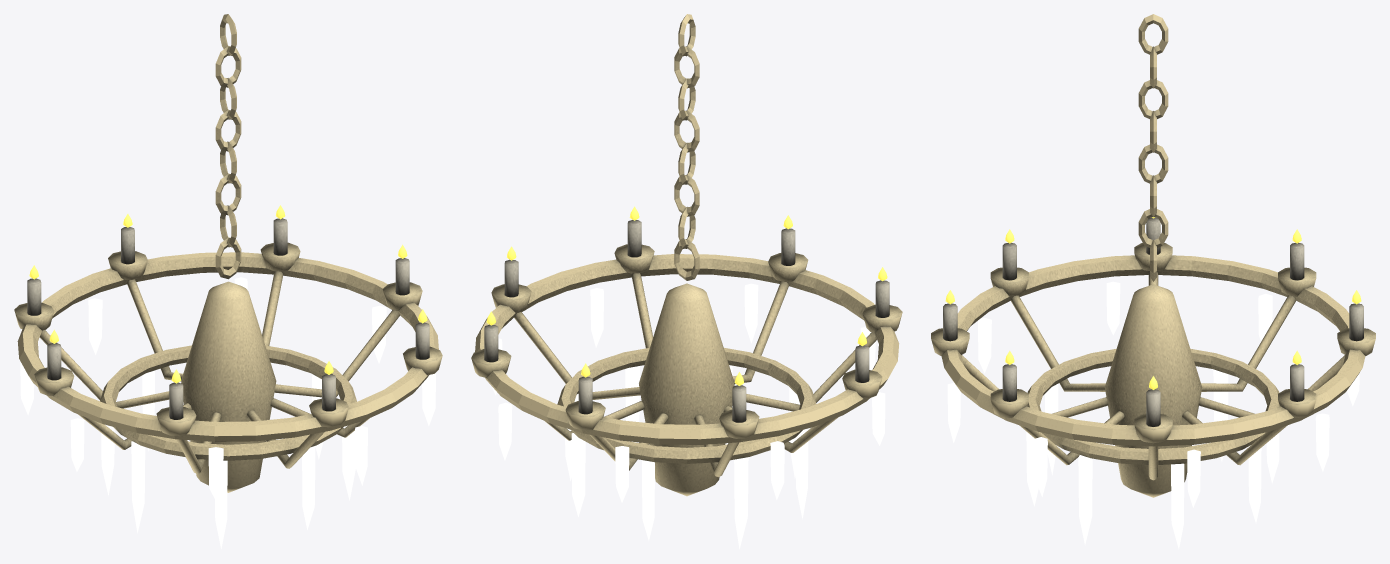
Rendered from deco_lustre_cristal.glb.
The picture shows the model from 3 angles, left to right: view 1: azimuth 30°, elevation 25°; view 2: azimuth 150°, elevation 25°; view 3: azimuth 270°, elevation 25°; orthographic projection.
Parts seen in each view (by area): view 1: deco_lustre_cristal_tronco, cristal41, cristal61, cristal71, cristal50, cristal51, cristal20, cristal60, cristal40, cristal31, cristal70; view 2: deco_lustre_cristal_tronco, cristal31, cristal11, cristal21, cristal41, cristal30, cristal20, cristal70, cristal60, cristal10, cristal40, cristal71; view 3: deco_lustre_cristal_tronco, cristal71, cristal01, cristal11, cristal70, cristal10, cristal00, cristal50, cristal60, cristal40, cristal30, cristal61 (+1 smaller).
Part boxes in pixels (left/top/right/bottom): deco_lustre_cristal_tronco: left=14, top=14, right=442, bottom=492; cristal41: left=131, top=441, right=145, bottom=533; cristal61: left=302, top=446, right=315, bottom=529; cristal71: left=342, top=425, right=355, bottom=500; cristal50: left=208, top=447, right=223, bottom=500; cristal51: left=215, top=460, right=227, bottom=548; cristal20: left=88, top=298, right=102, bottom=354; cristal60: left=355, top=426, right=367, bottom=485; cristal40: left=70, top=418, right=84, bottom=471; cristal31: left=101, top=424, right=114, bottom=495; cristal70: left=422, top=373, right=435, bottom=425; deco_lustre_cristal_tronco: left=471, top=14, right=902, bottom=496; cristal31: left=734, top=457, right=748, bottom=549; cristal11: left=571, top=433, right=585, bottom=516; cristal21: left=642, top=460, right=654, bottom=540; cristal41: left=795, top=428, right=808, bottom=519; cristal30: left=770, top=441, right=784, bottom=499; cristal20: left=615, top=446, right=629, bottom=502; cristal70: left=590, top=288, right=603, bottom=347; cristal60: left=744, top=283, right=758, bottom=343; cristal10: left=498, top=402, right=512, bottom=460; cristal40: left=872, top=392, right=885, bottom=445; cristal71: left=625, top=366, right=639, bottom=442; deco_lustre_cristal_tronco: left=931, top=14, right=1375, bottom=497; cristal71: left=1078, top=455, right=1092, bottom=545; cristal01: left=1171, top=463, right=1184, bottom=549; cristal11: left=1248, top=445, right=1261, bottom=523; cristal70: left=1034, top=437, right=1047, bottom=496; cristal10: left=1315, top=413, right=1329, bottom=471; cristal00: left=1187, top=449, right=1200, bottom=507; cristal50: left=978, top=318, right=991, bottom=373; cristal60: left=947, top=383, right=960, bottom=442; cristal40: left=1106, top=281, right=1120, bottom=335; cristal30: left=1258, top=293, right=1272, bottom=353; cristal61: left=1026, top=431, right=1038, bottom=506.
Size of the model in its own units: 1.1 by 1.33 by 1.1.
25 materials, 1 textured.
